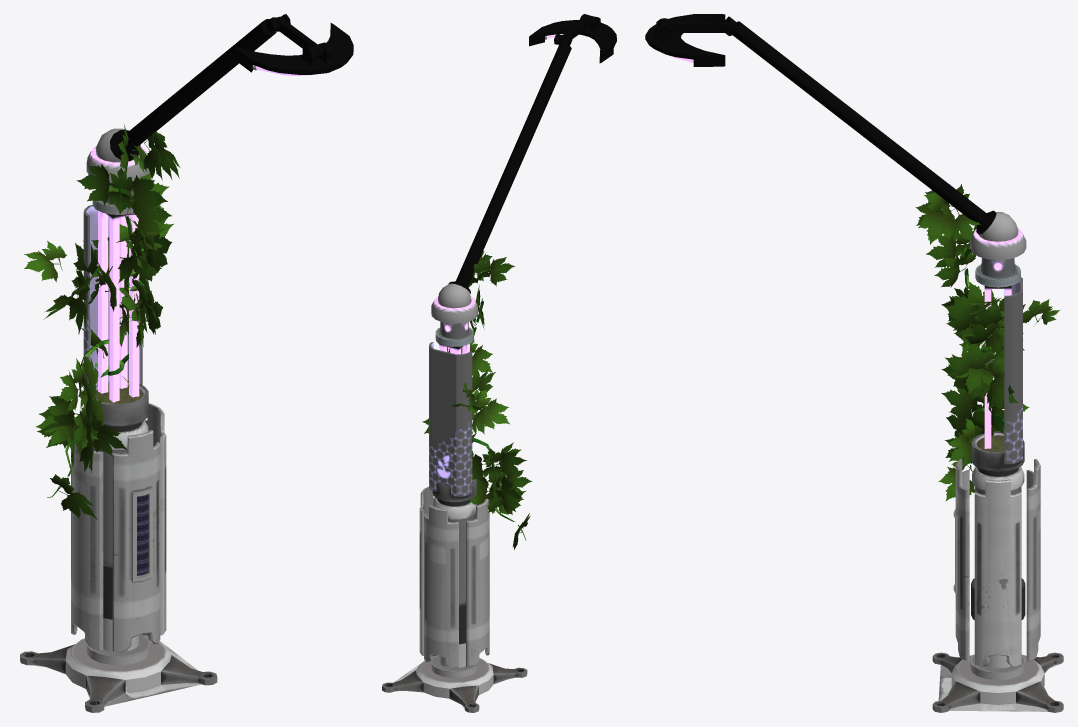
Rendered from neon2.fbx.
The picture shows the model from 3 angles, left to right: view 1: azimuth 30°, elevation 25°; view 2: azimuth 150°, elevation 25°; view 3: azimuth 270°, elevation 25°; orthographic projection. The views are drawn at different scales.
Parts seen in each view (by area): view 1: Neon2; view 2: Neon2; view 3: Neon2.
Part boxes in pixels (x1,y1,x2,y2): Neon2: [20, 14, 353, 712]; Neon2: [382, 14, 616, 712]; Neon2: [645, 14, 1063, 712].
Bounding box in the file's own units: 90.27 × 426 × 242.
Materials: 3 (3 with a texture image).
